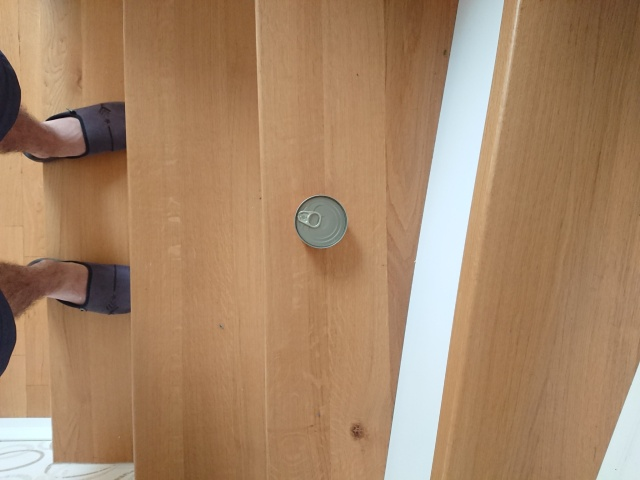Gavrilovic Pork Liver Pate 100g: (292, 193, 349, 252)
